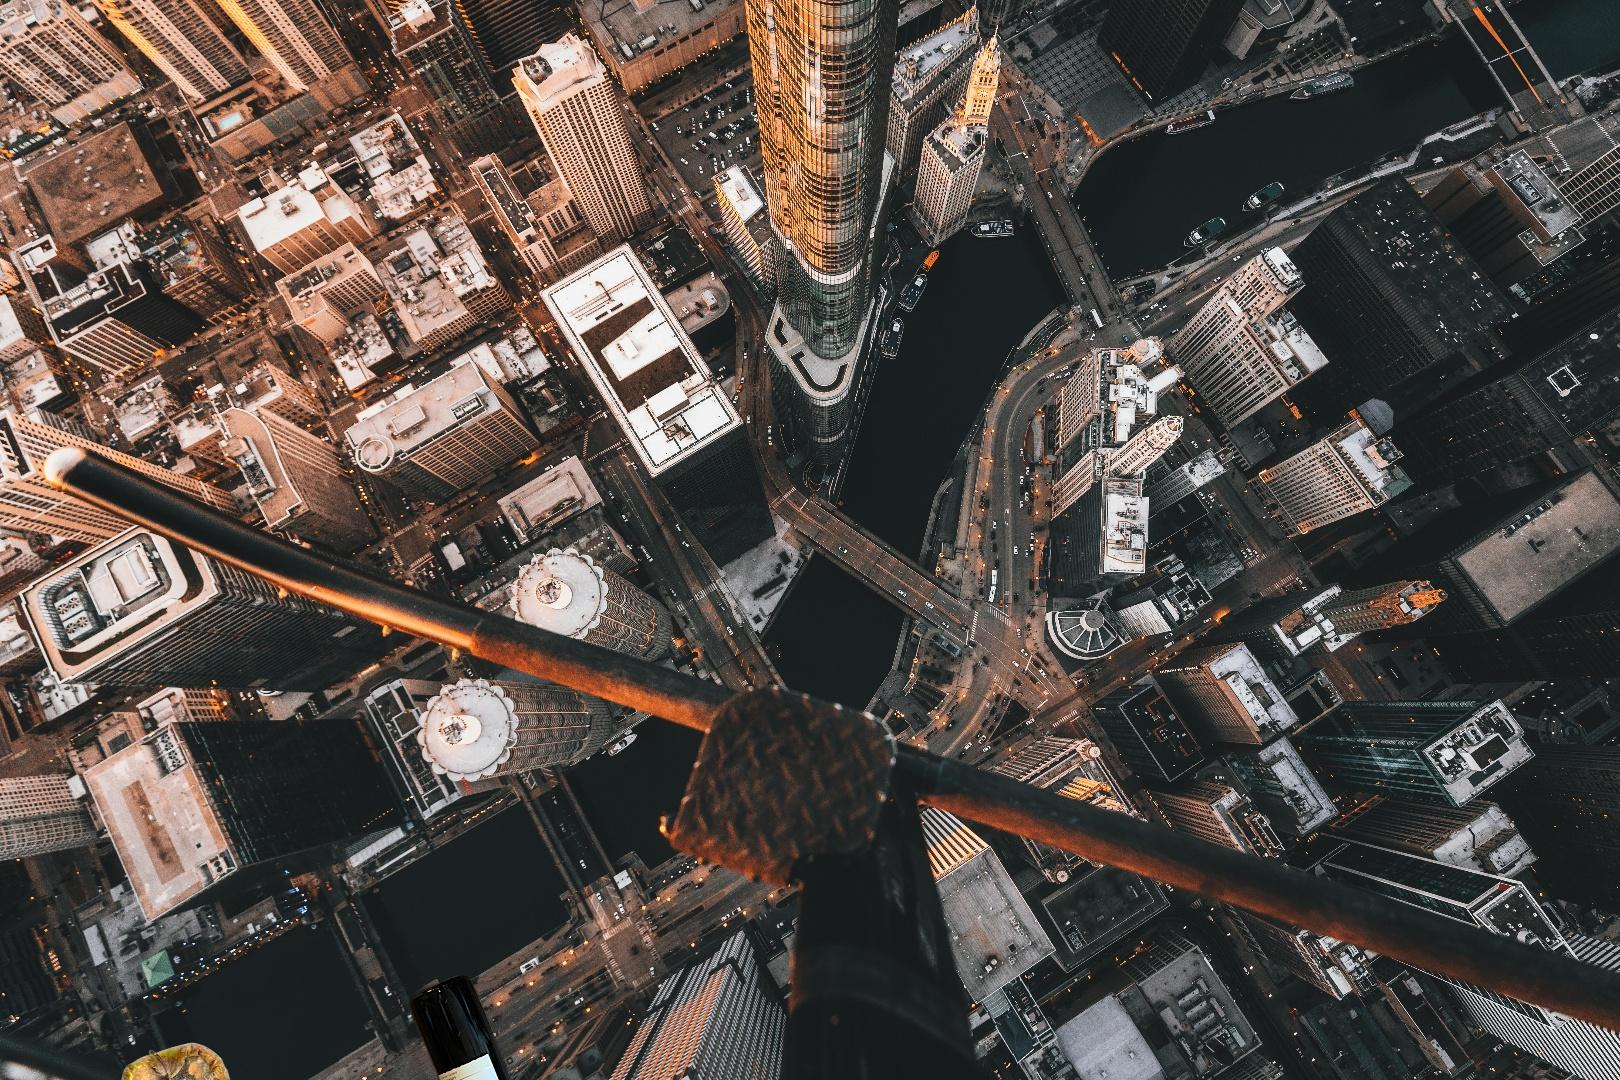biological: (27, 1038, 268, 1080)
glass: (406, 969, 560, 1080)
